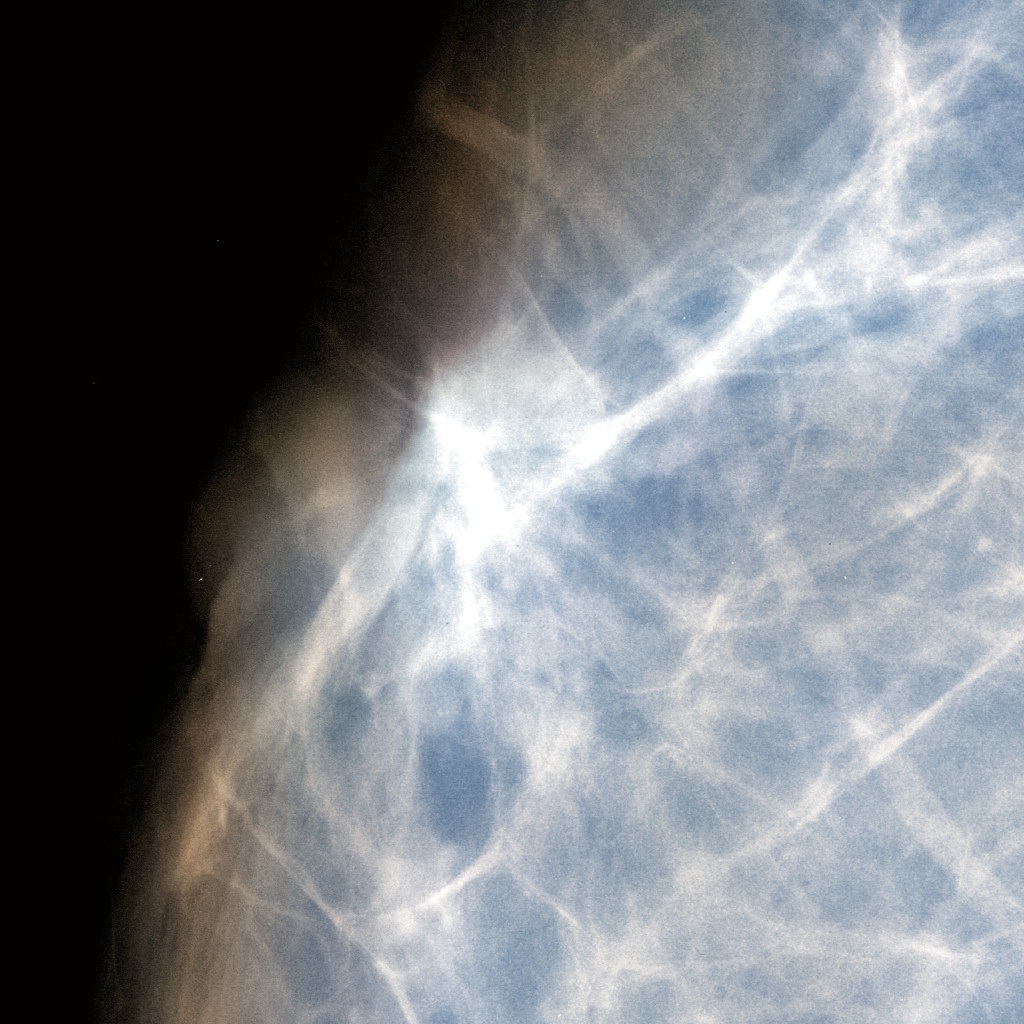tumor: (365, 352, 659, 672)
